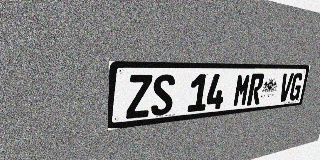1: (187, 74, 210, 112)
4: (206, 74, 227, 110)
G: (288, 73, 304, 101)
M: (232, 74, 252, 107)
R: (246, 73, 265, 106)
S: (151, 74, 175, 116)
V: (278, 73, 294, 102)
Z: (126, 75, 153, 119)
